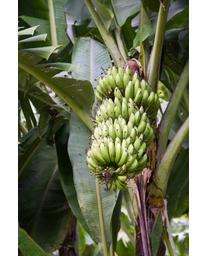banana: (86, 66, 159, 191)
